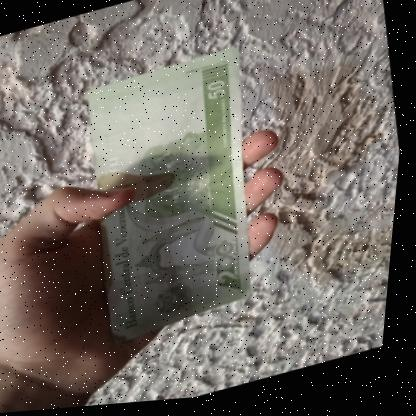fifty-back-vef: (66, 45, 291, 353)
